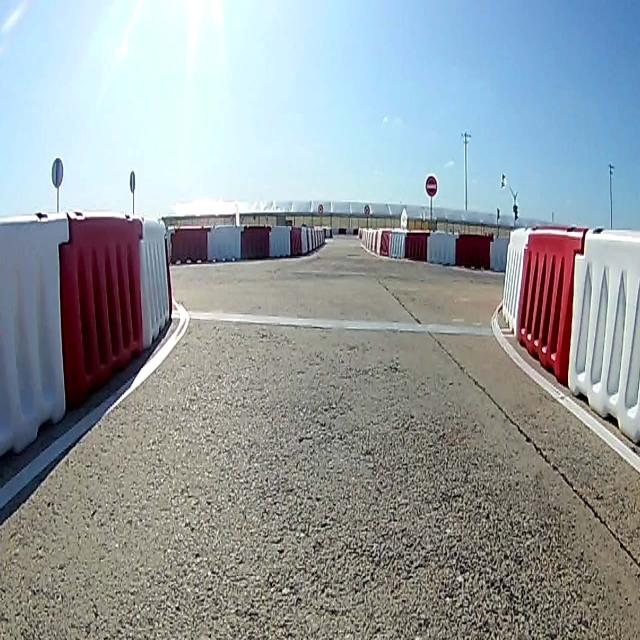girisyok: (424, 171, 438, 201)
